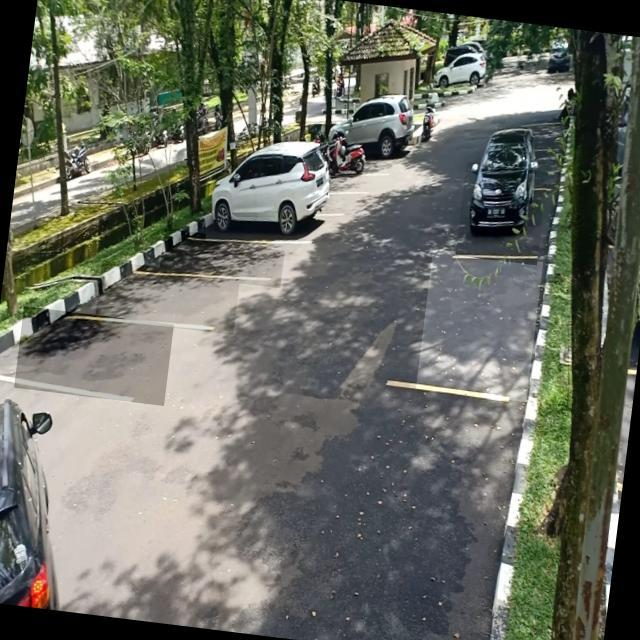empty: (416, 248, 542, 402), (13, 306, 174, 405), (94, 260, 240, 334), (159, 228, 285, 288)
occupied: (205, 157, 334, 255), (455, 162, 548, 266)
